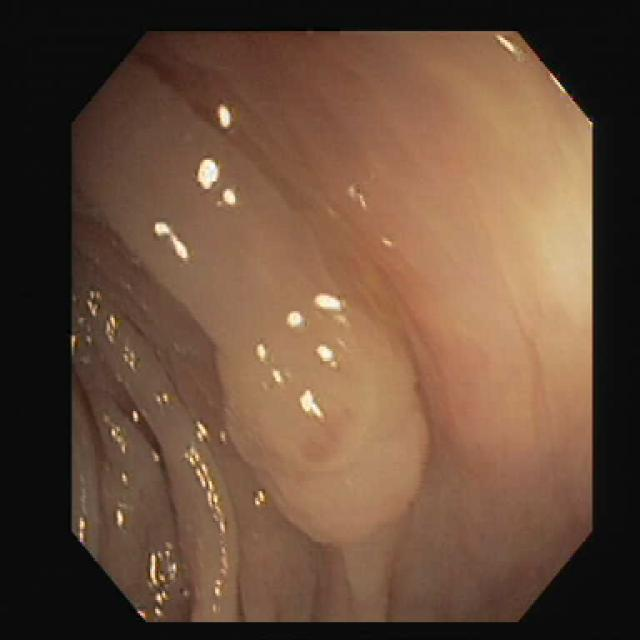tumor: (218, 309, 425, 533)
